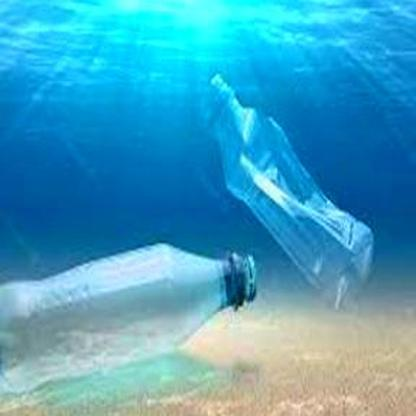plastic bottle: (198, 73, 377, 307), (1, 241, 258, 393)
